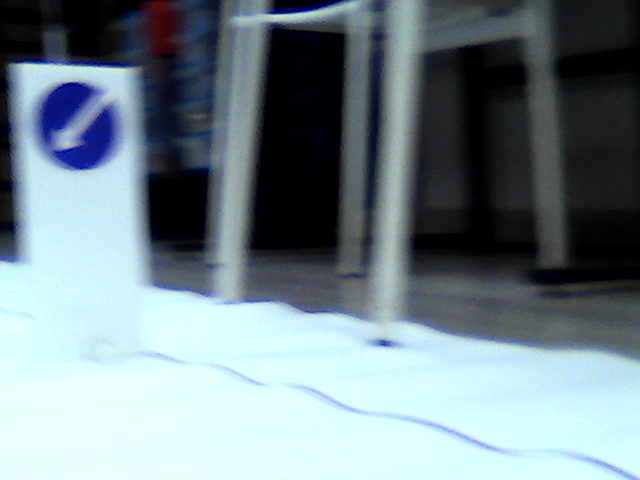prep: (38, 80, 120, 169)
